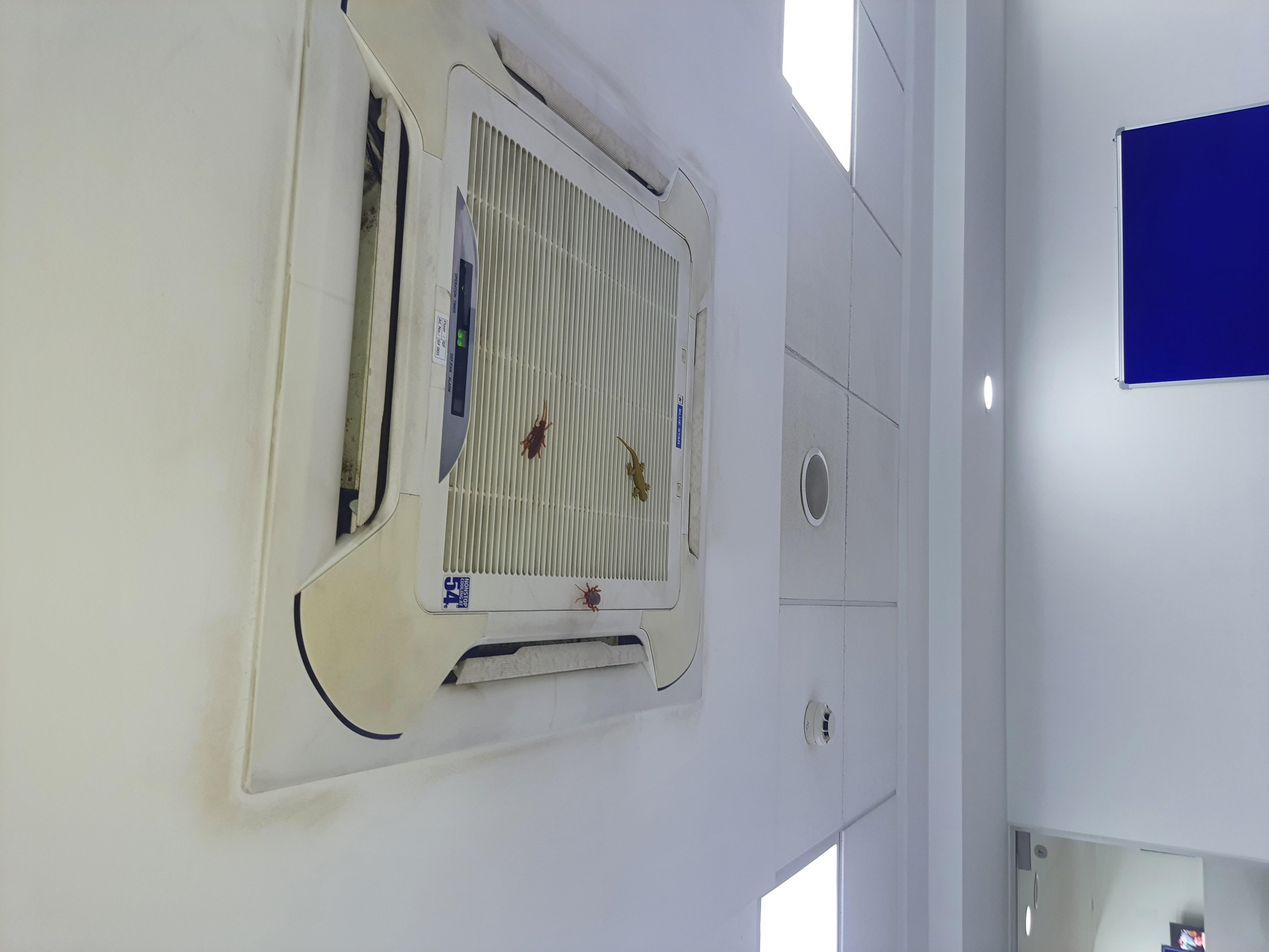cockroach: (647, 381, 749, 423), (441, 425, 506, 461)
lizard: (593, 456, 702, 496)
